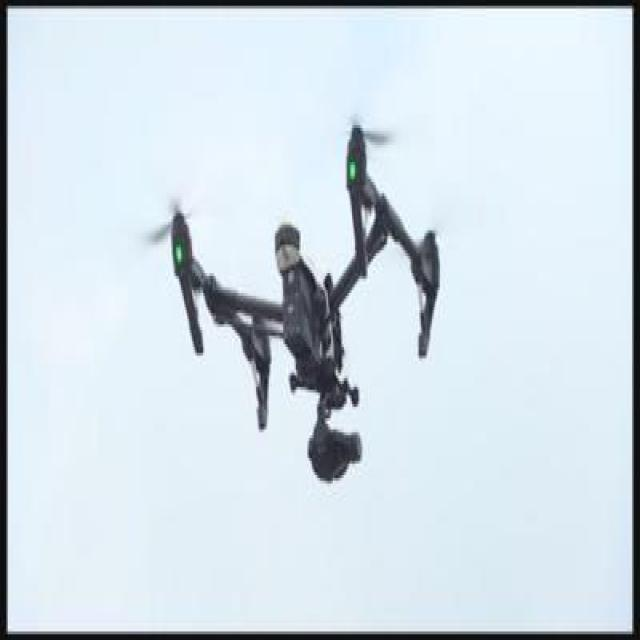drone: (132, 113, 453, 484)
